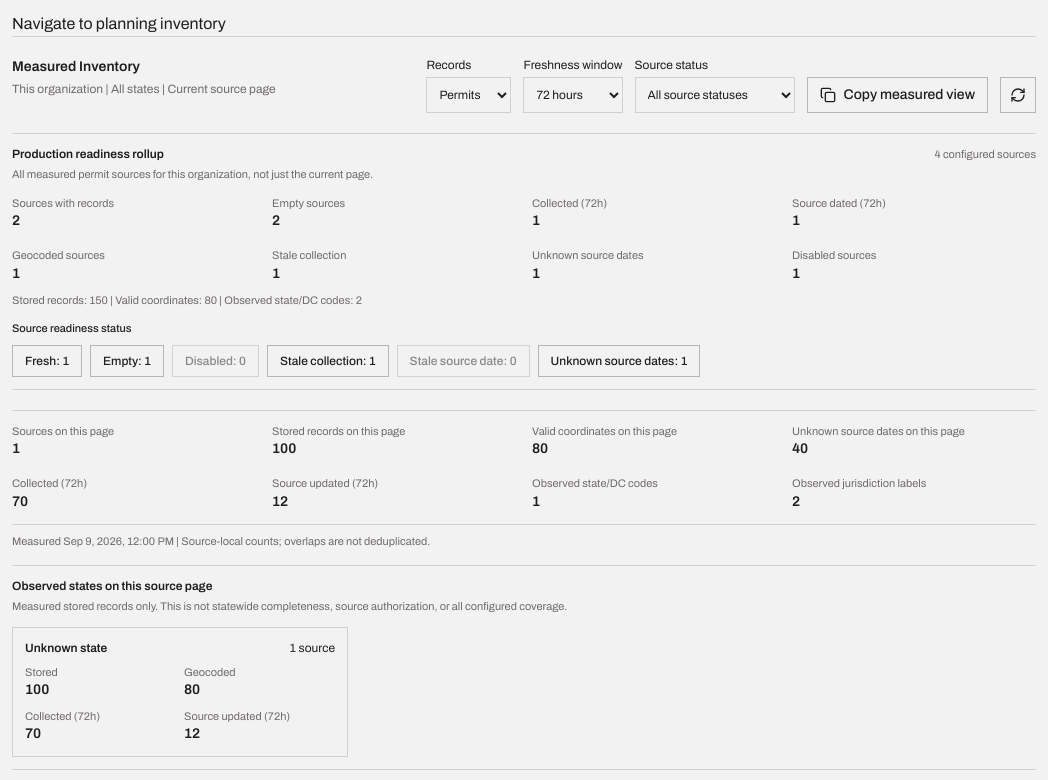
Test: MeasuredCoveragePanel › handles no sources and preserves unknown state and date values
This screenshot has width=1048, height=780.
Select "Planning" in the dropdown labelled "Records" at {"x": 469, "y": 95}, box [426,77,511,113]
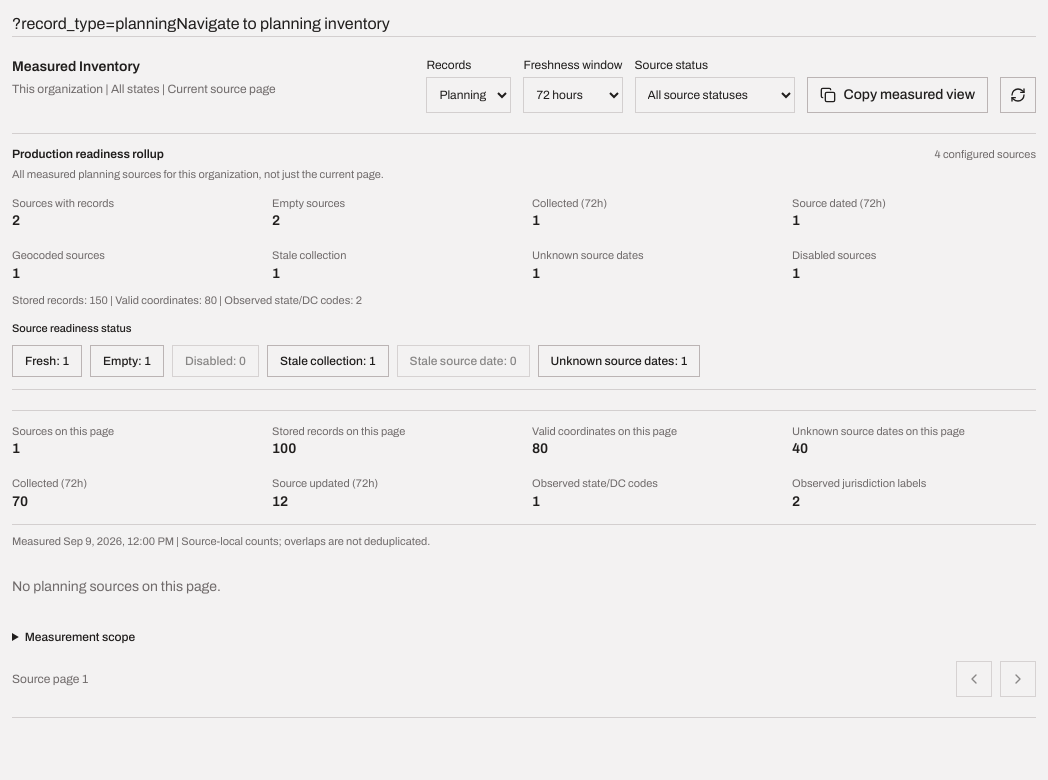
Expected: the text "No planning sources on this page." is shown, [12,579,221,594]
